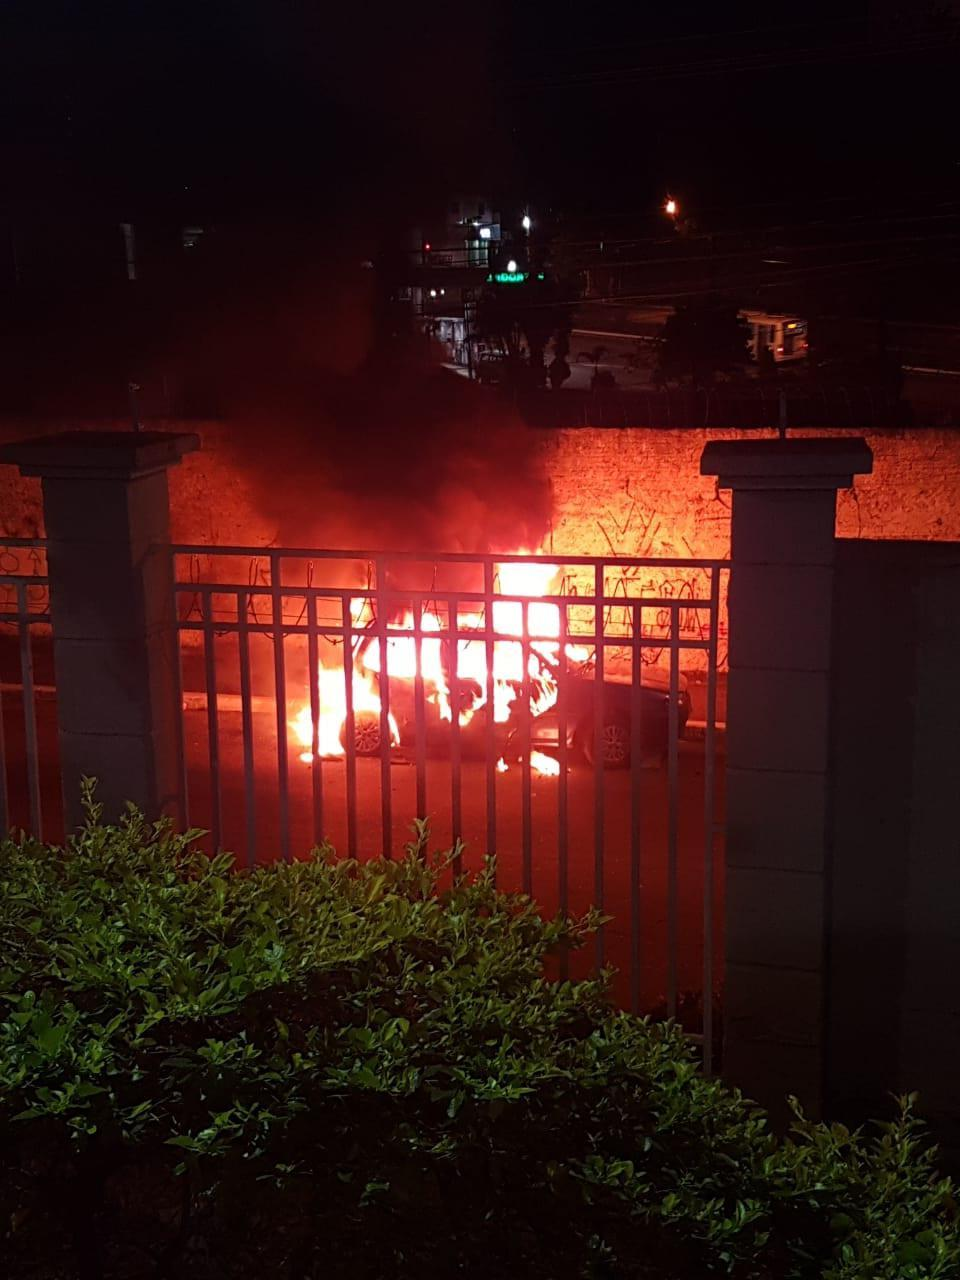Fire: (348, 556, 612, 721), (289, 659, 395, 766), (530, 751, 561, 777), (498, 759, 510, 775)
